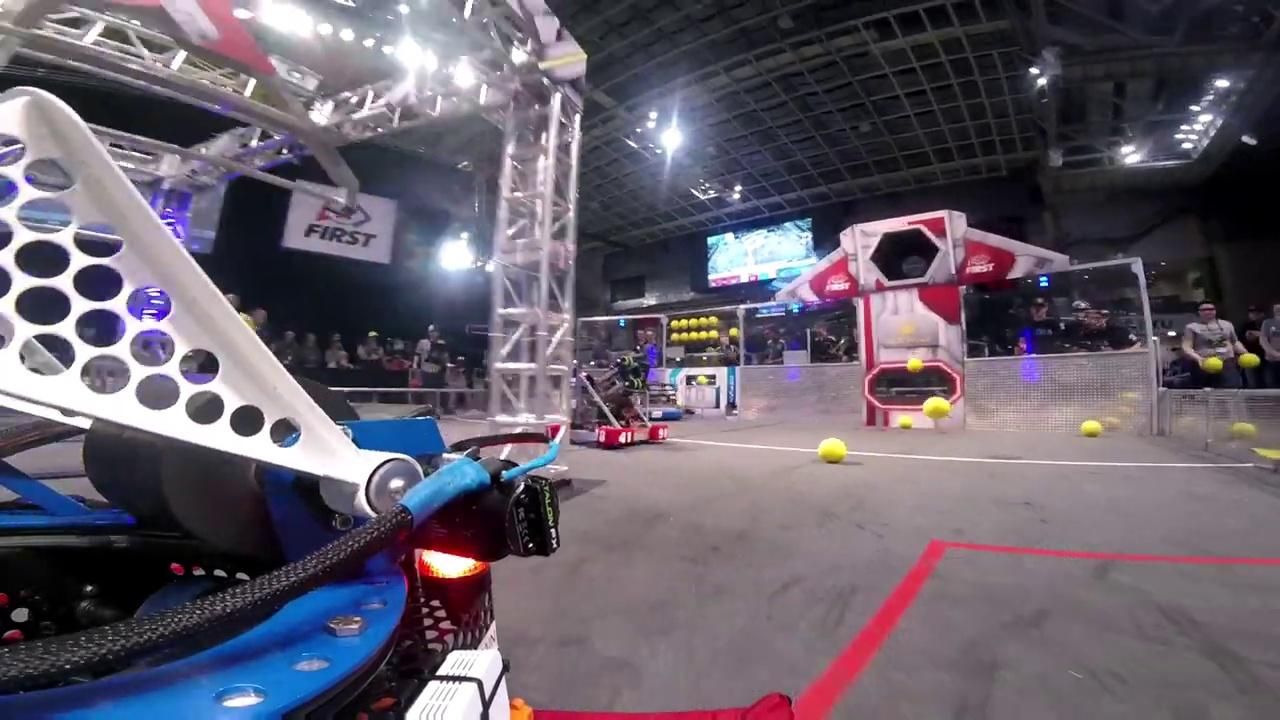robot: (566, 353, 671, 449), (636, 380, 688, 421)
